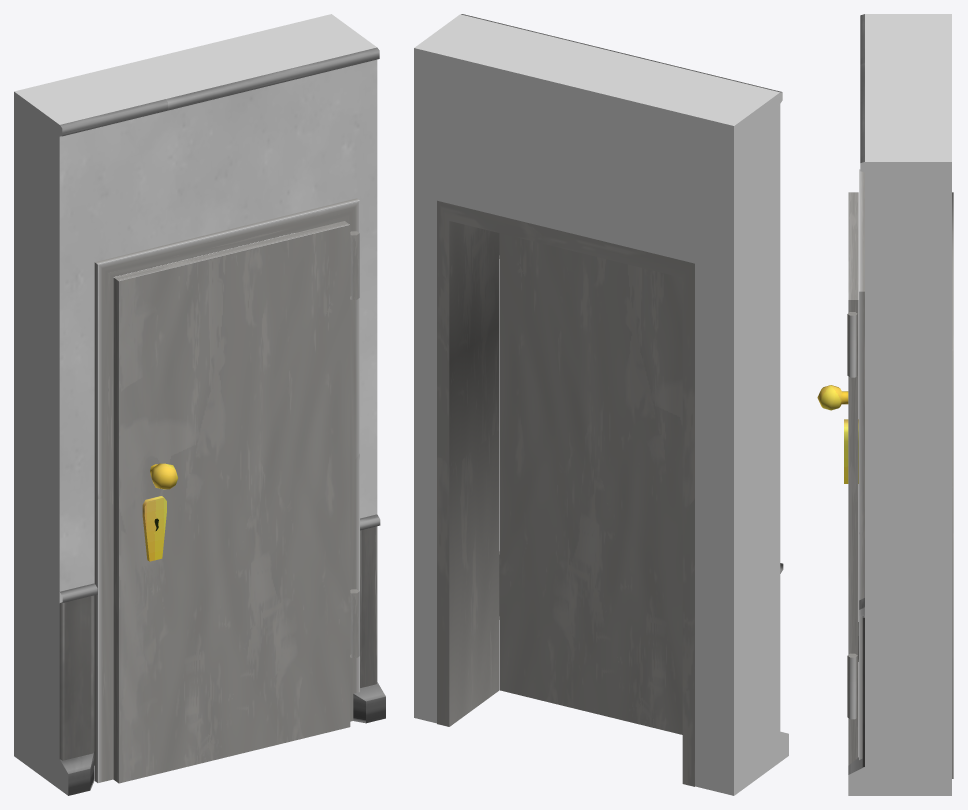
The model's file is walldoortile.fbx.
3 renders of one model, left to right at view 1: azimuth 30°, elevation 25°; view 2: azimuth 150°, elevation 25°; view 3: azimuth 270°, elevation 25°, orthographic. The views are drawn at different scales.
Parts seen in each view (by area): view 1: door.001, 1I, door; view 2: 1I, door.001, door; view 3: 1I, door.001, door.
Part boxes in pixels (left/top/right/bottom): door.001: left=113, top=221, right=359, bottom=783; 1I: left=14, top=14, right=385, bottom=795; door: left=94, top=198, right=359, bottom=782; 1I: left=414, top=14, right=788, bottom=795; door.001: left=499, top=233, right=682, bottom=734; door: left=437, top=200, right=694, bottom=786; 1I: left=848, top=14, right=951, bottom=795; door.001: left=817, top=192, right=858, bottom=765; door: left=859, top=169, right=953, bottom=778.
Size of the model in its own units: 100 by 200 by 38.93.
